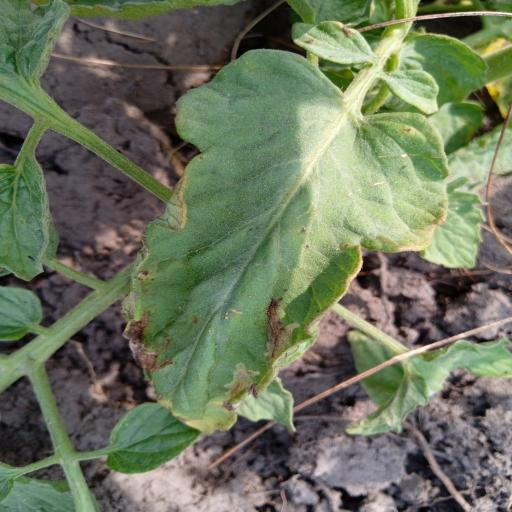Tomato_Mildiou: (110, 44, 470, 446)
